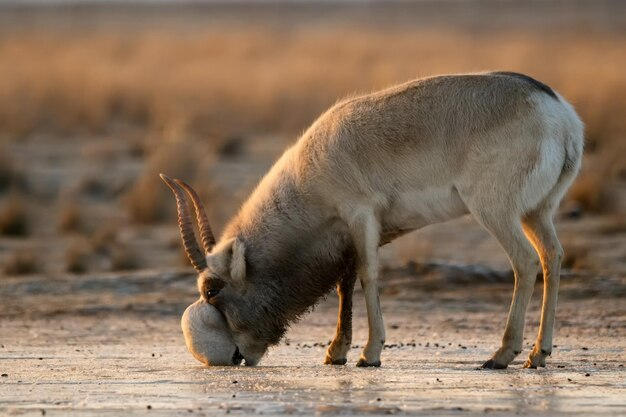saiga: (167, 64, 589, 377)
